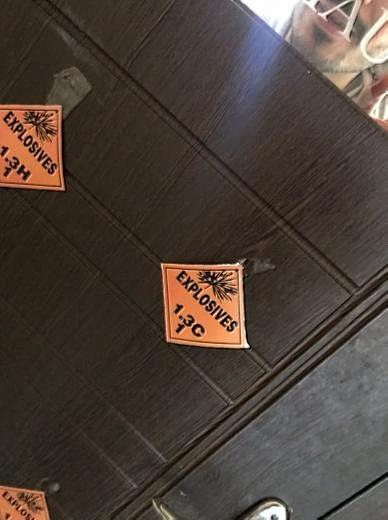explosive: (165, 263, 245, 346), (1, 108, 61, 190)
